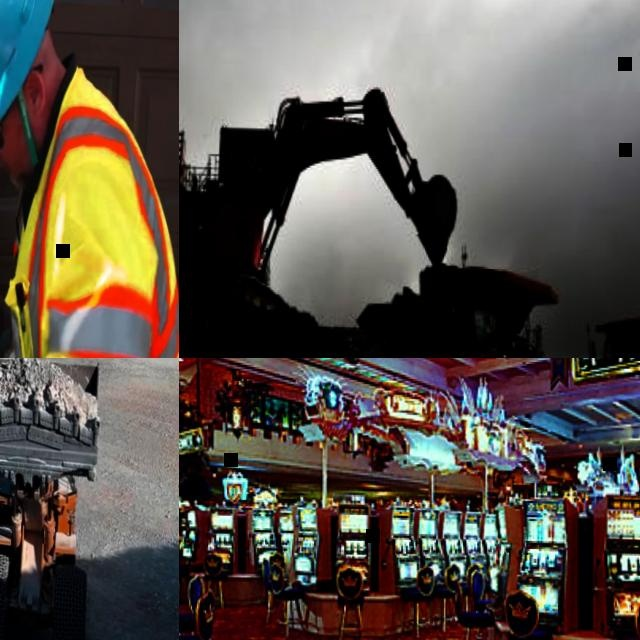Hardhat: (0, 0, 57, 150)
NO-Mask: (0, 136, 29, 196)
Person: (0, 0, 179, 358)
Safety Vest: (0, 58, 179, 358)
machinery: (179, 82, 463, 326), (0, 358, 110, 640), (348, 253, 561, 358)
